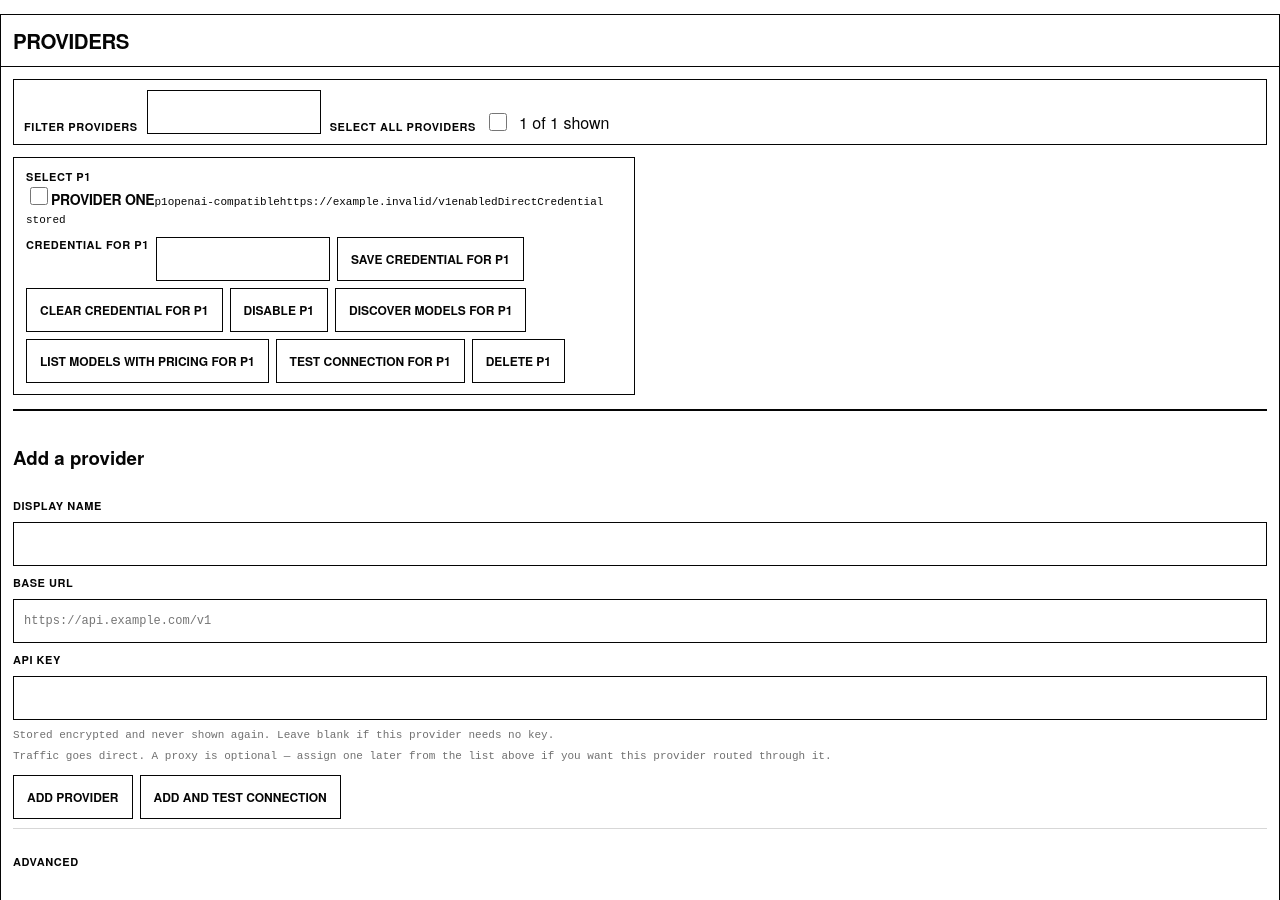
Test case: free-first catalogue display › renders a hostile economics value as Unknown rather than trusting it
This screenshot has width=1280, height=900.
Click the button with test id "catalogue-p1" at (147, 361), box [26, 339, 269, 383]
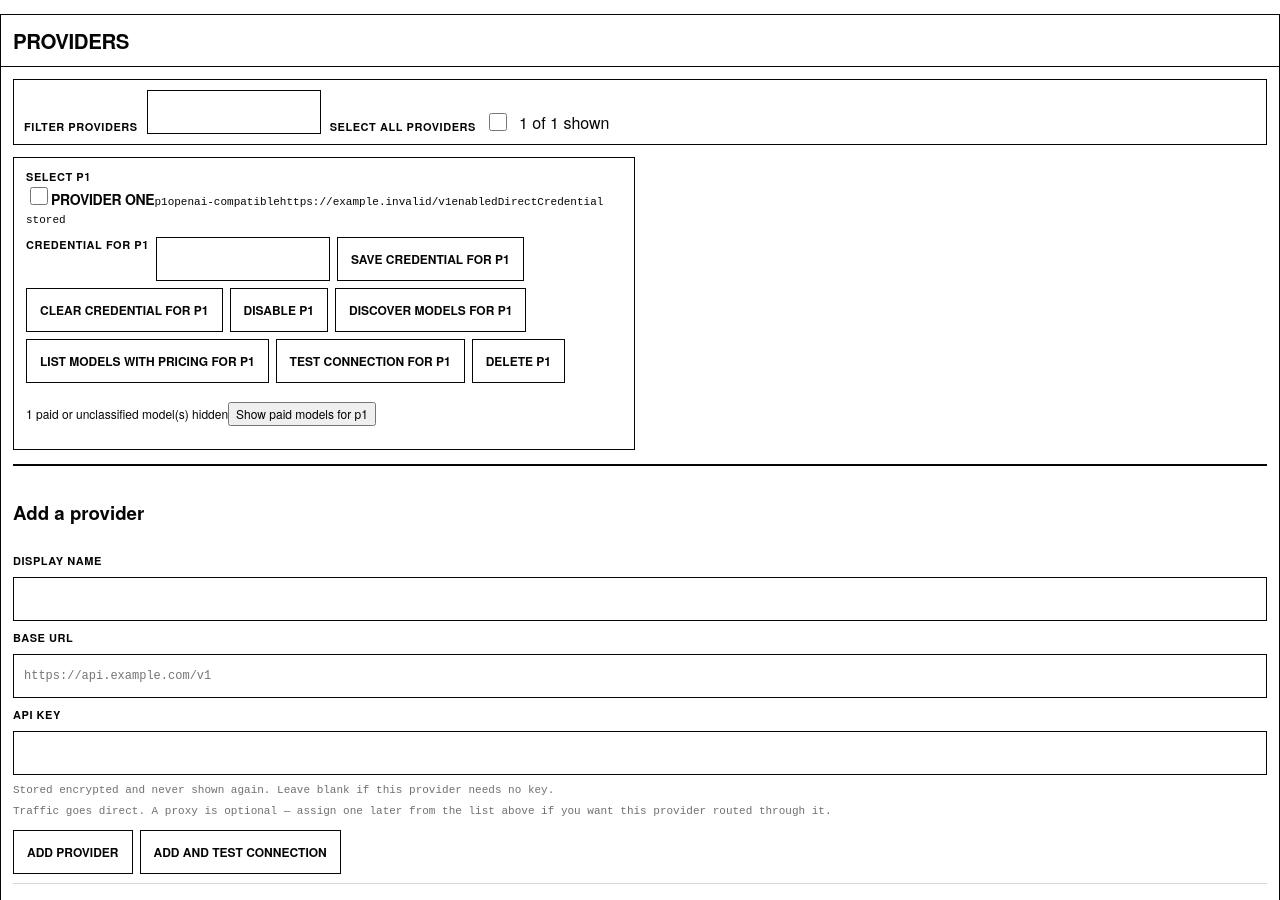
Result: the element with test id "paid-hidden-count-p1" shows "1" at [26, 405, 228, 422]
Click the button with test id "show-paid-p1" at (302, 414), box [228, 402, 376, 426]
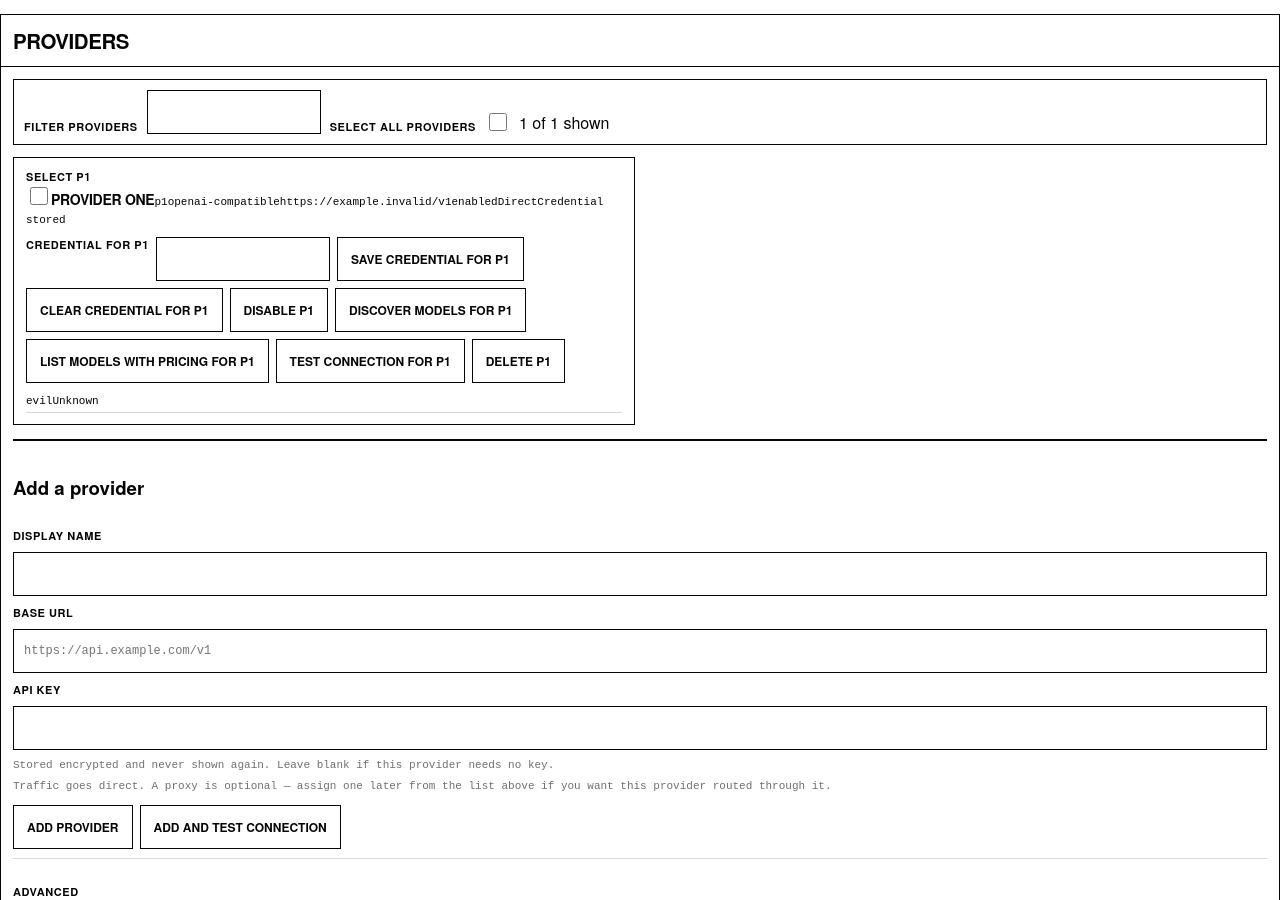
Result: the list item with test id "model-evil" shows "Unknown" at [52, 395, 99, 407]
